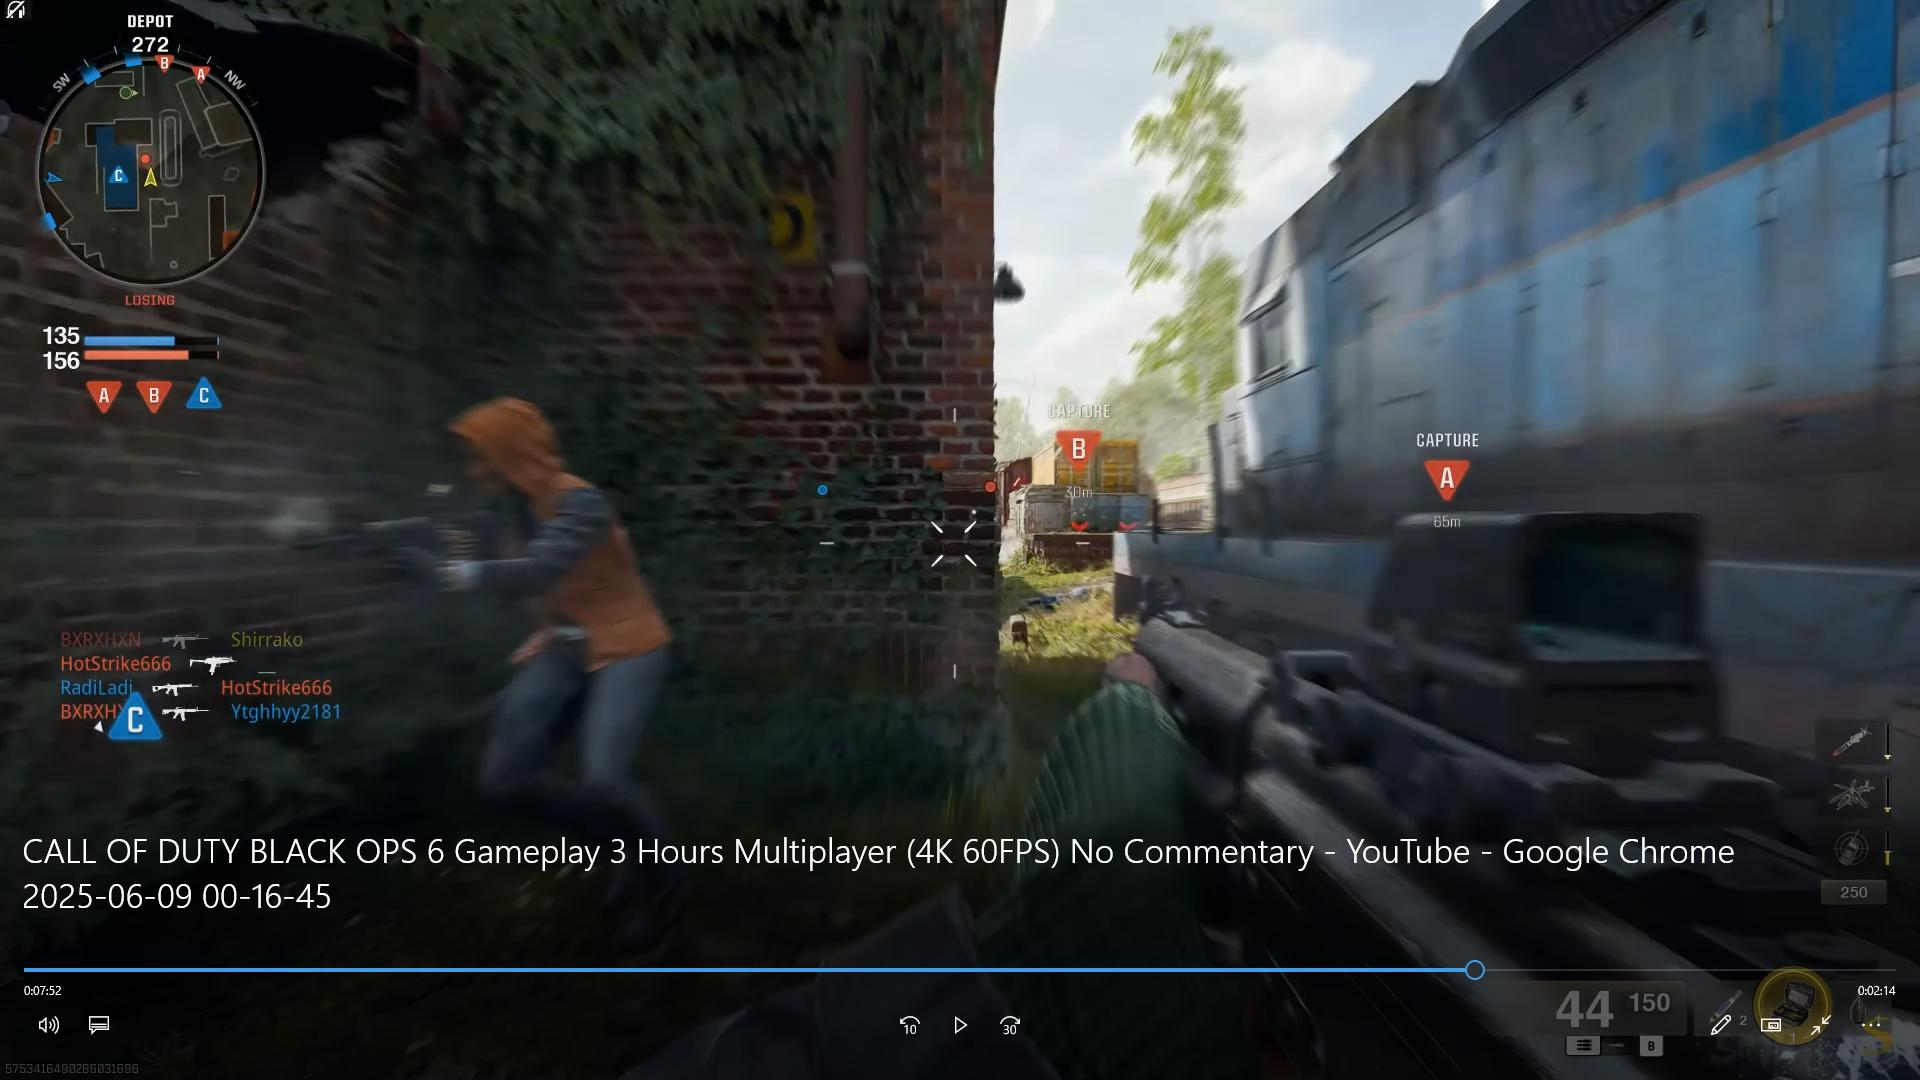Enemy: (394, 393, 703, 827)
